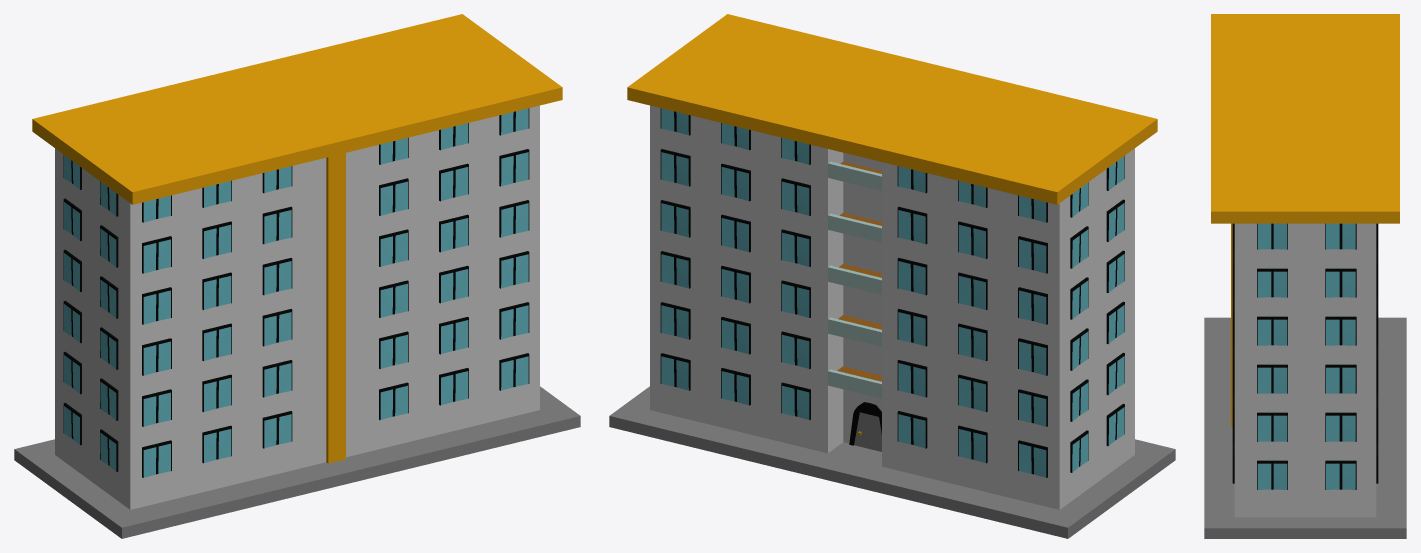
File: House.fbx
3 views of the same model, side by side, from view 1: azimuth 30°, elevation 25°; view 2: azimuth 150°, elevation 25°; view 3: azimuth 270°, elevation 25° (orthographic). The views are drawn at different scales.
Visible parts, largest first — view 1: House; view 2: House; view 3: House.
Part boxes in pixels (<box>): House: <box>14,14,580,538</box>; House: <box>609,14,1175,538</box>; House: <box>1204,14,1406,538</box>.
Size of the model in its own units: 3197 by 2268 by 1298.
